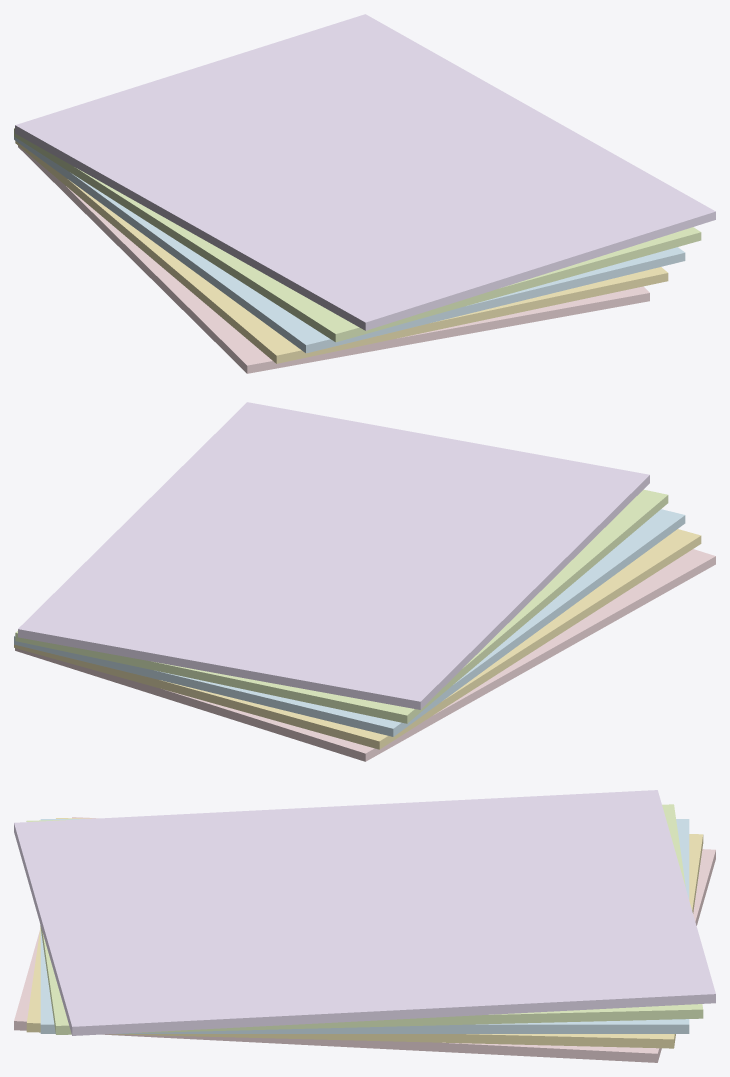
File: ch5_prop_decor_paper.glb
The picture shows the model from 3 angles, top to bottom: view 1: azimuth 30°, elevation 25°; view 2: azimuth 150°, elevation 25°; view 3: azimuth 270°, elevation 25°; orthographic projection. The views are drawn at different scales.
Parts seen in each view (by area): view 1: ch5_prop_decor_paper; view 2: ch5_prop_decor_paper; view 3: ch5_prop_decor_paper.
Boxes of the visible parts, x1=… form: ch5_prop_decor_paper: x1=14, y1=14, x2=715, y2=373; ch5_prop_decor_paper: x1=14, y1=402, x2=715, y2=761; ch5_prop_decor_paper: x1=14, y1=790, x2=715, y2=1062.
Bounding box in the file's own units: 0.2966 × 0.029 × 0.3464.
